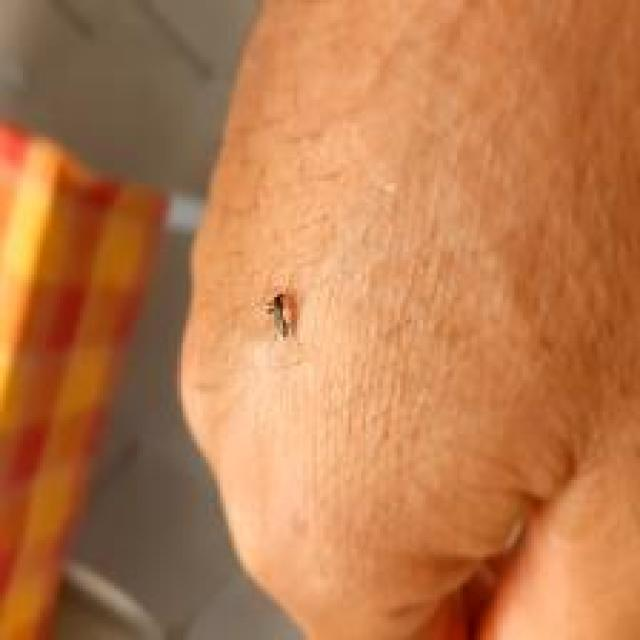Aedes albopictus: (0, 108, 171, 640)
